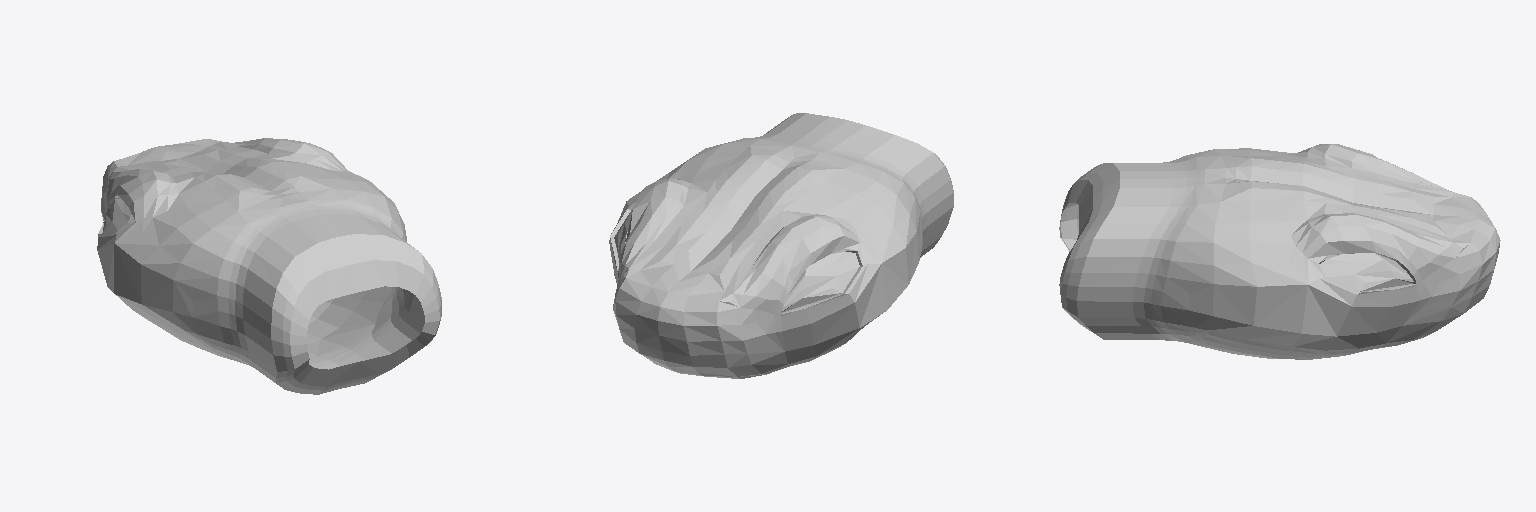
File: snak.obj
3 renders of one model, left to right at view 1: azimuth 30°, elevation 25°; view 2: azimuth 150°, elevation 25°; view 3: azimuth 270°, elevation 25°, orthographic.
Visible parts, largest first — view 1: Head_v2.6; view 2: Head_v2.6; view 3: Head_v2.6.
Boxes of the visible parts, box(x1,y1,x2,y2) form: Head_v2.6: box(97, 138, 441, 394); Head_v2.6: box(609, 113, 953, 378); Head_v2.6: box(1059, 144, 1500, 359).
Bounding box in the file's own units: 1.48 × 0.8988 × 2.17.